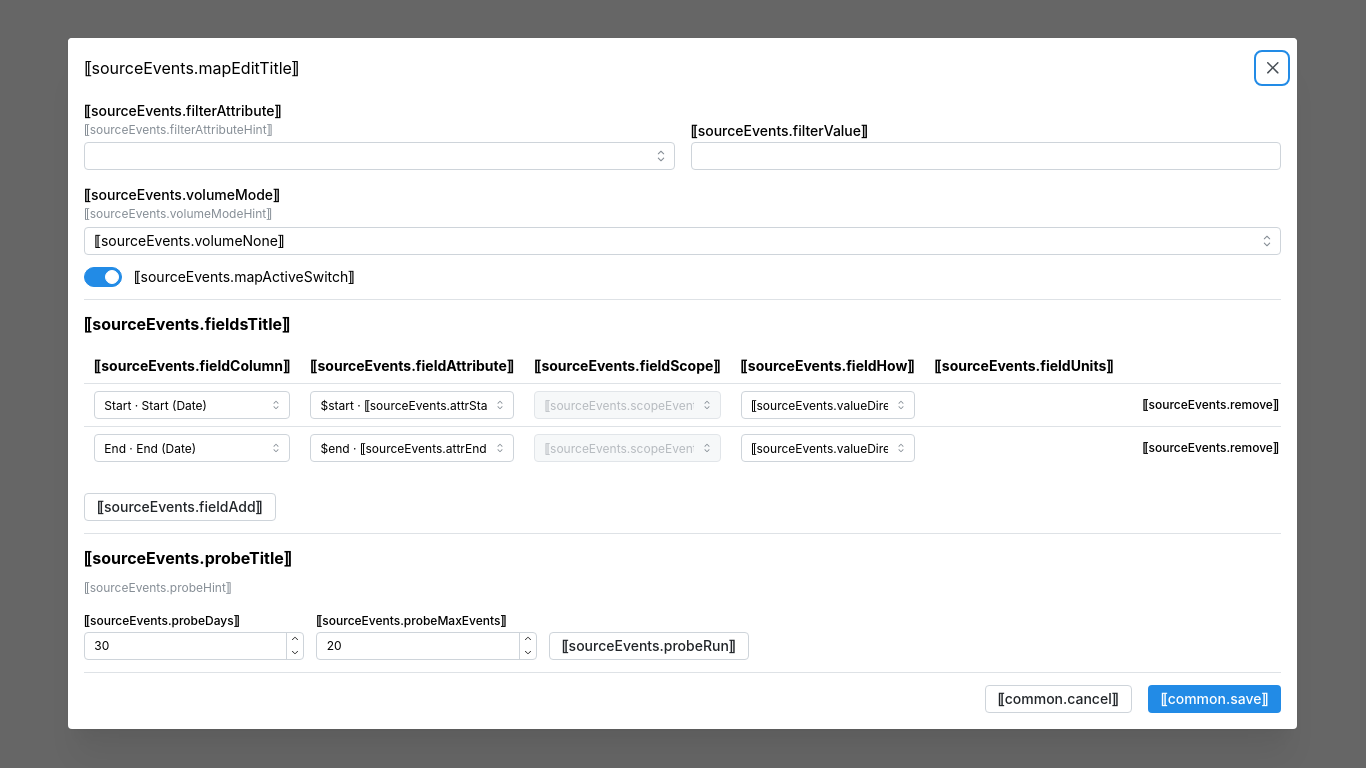
Scenario: SourceEventMapModal: одна відмова — одне сповіщення › відмова PUT показана в ErrorAlert форми і не дублюється тостом
This screenshot has width=1366, height=768.
(page scrolled)
Click the button "⟦common.save⟧" at [1215, 699], box [1148, 685, 1282, 713]
(page scrolled)
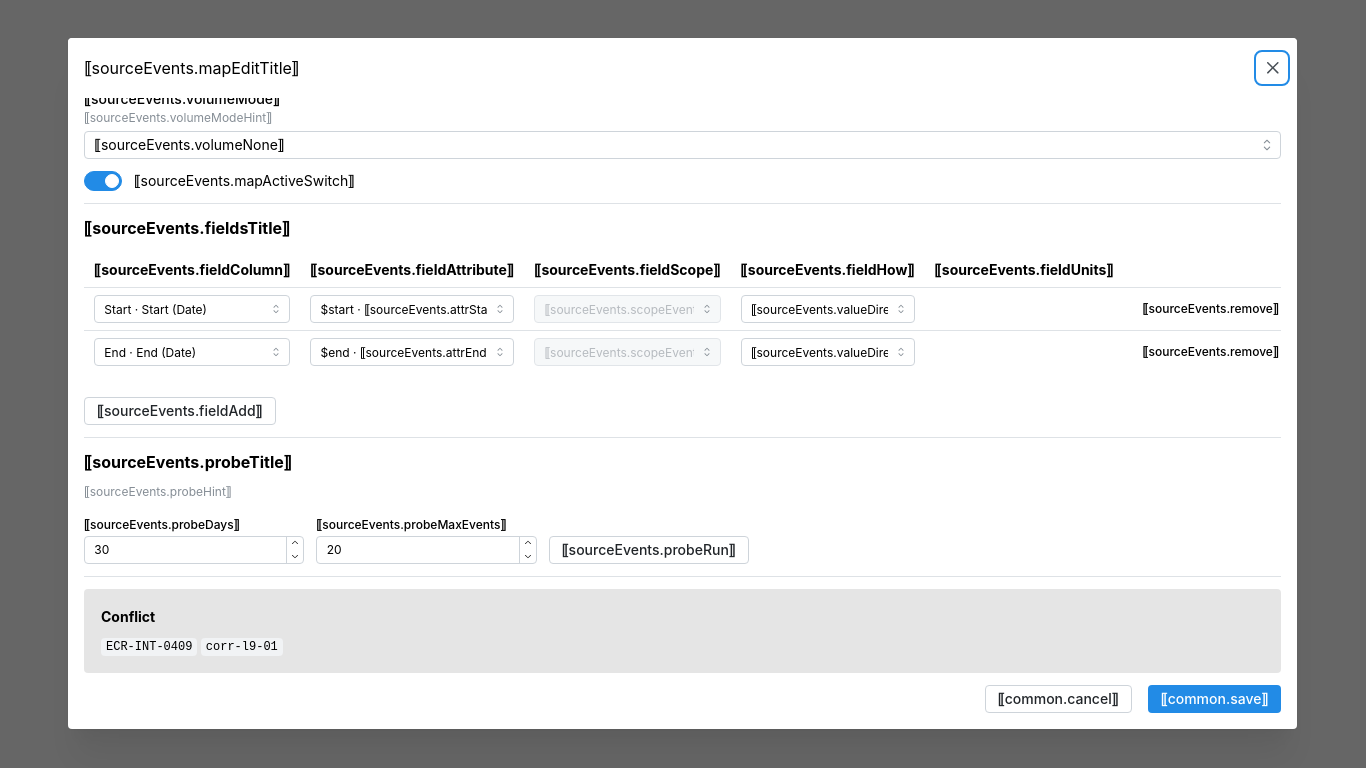
Check: the message "Conflict ECR-INT-0409 corr-l9-01" is shown, box [84, 589, 1282, 674]
